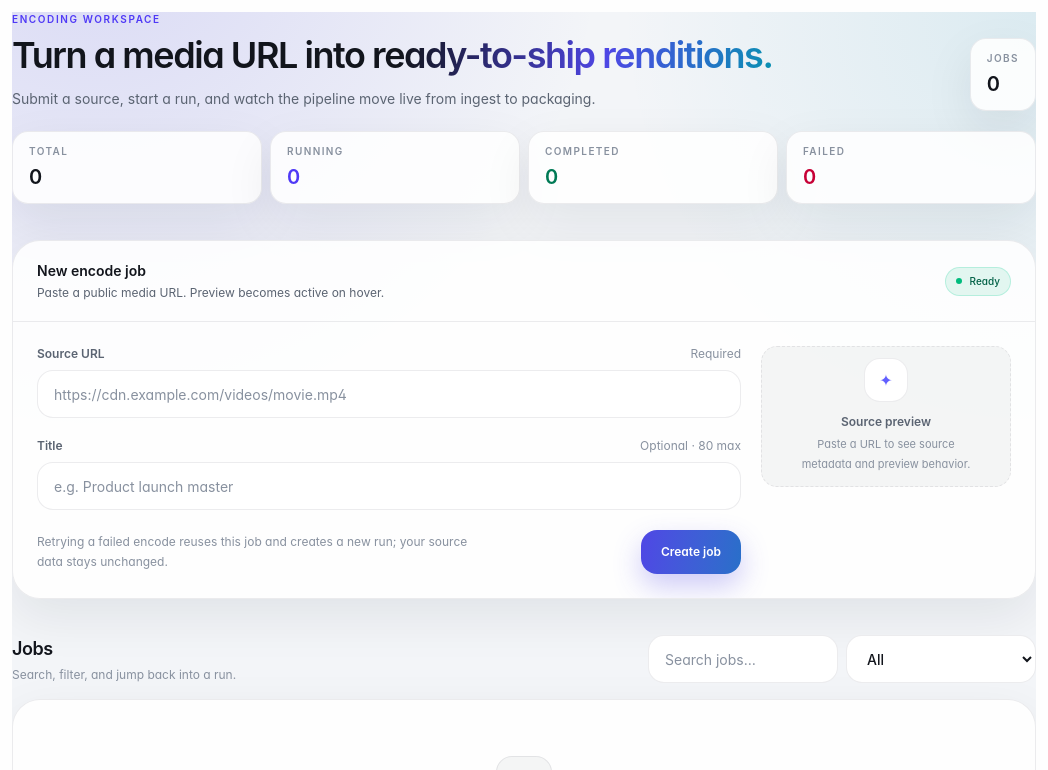
Test case: create job form › shows a client Zod error for a bad URL and does not POST
In the field labelled "Source URL Required": (389, 394) [37, 370, 741, 418], type "not-a-url"
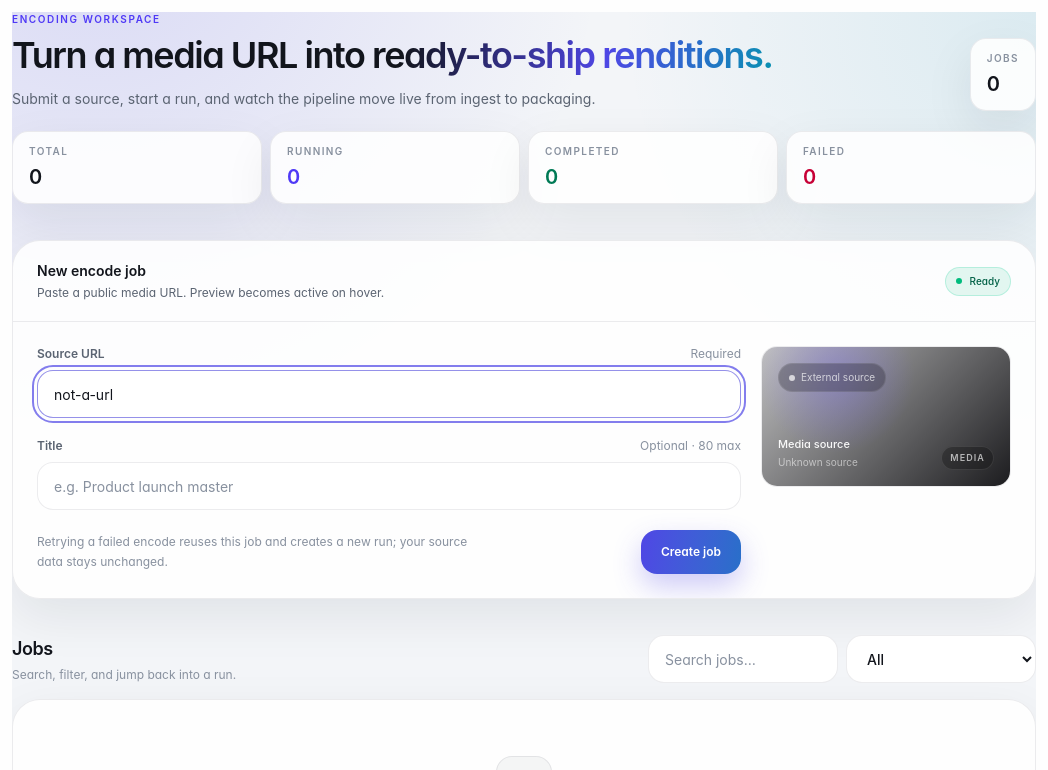
Click the button "Create job": (691, 552) [641, 530, 741, 574]
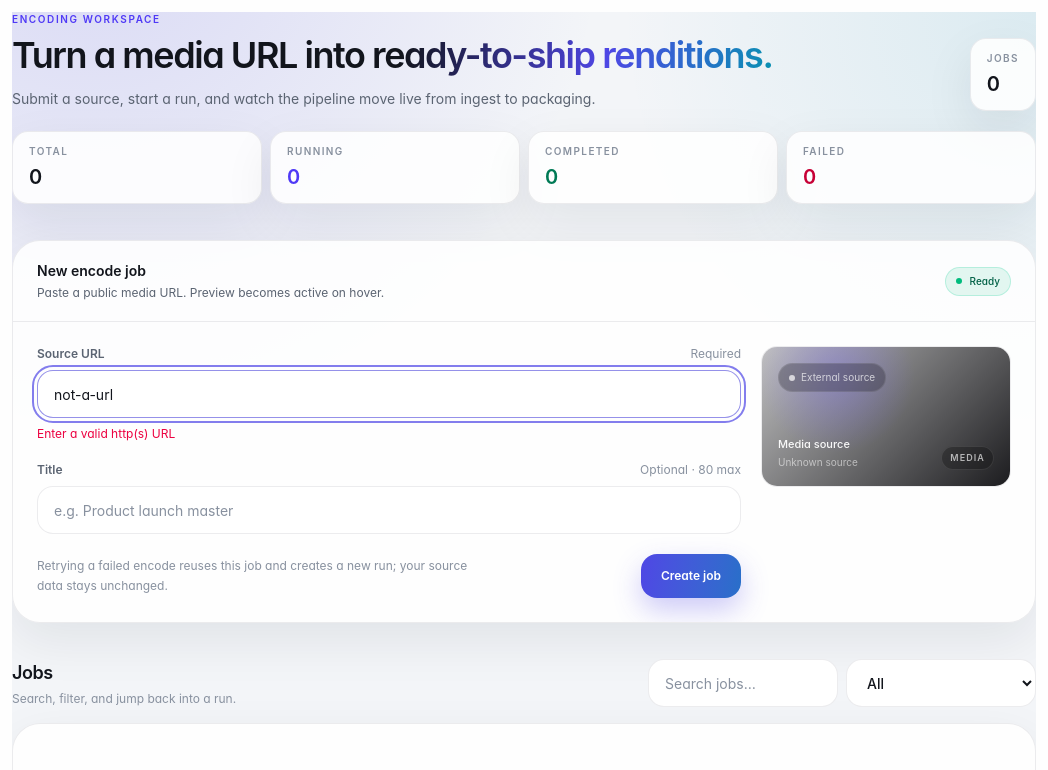
Result: the text "Enter a valid http(s) URL" is shown at [37, 426, 175, 441]
